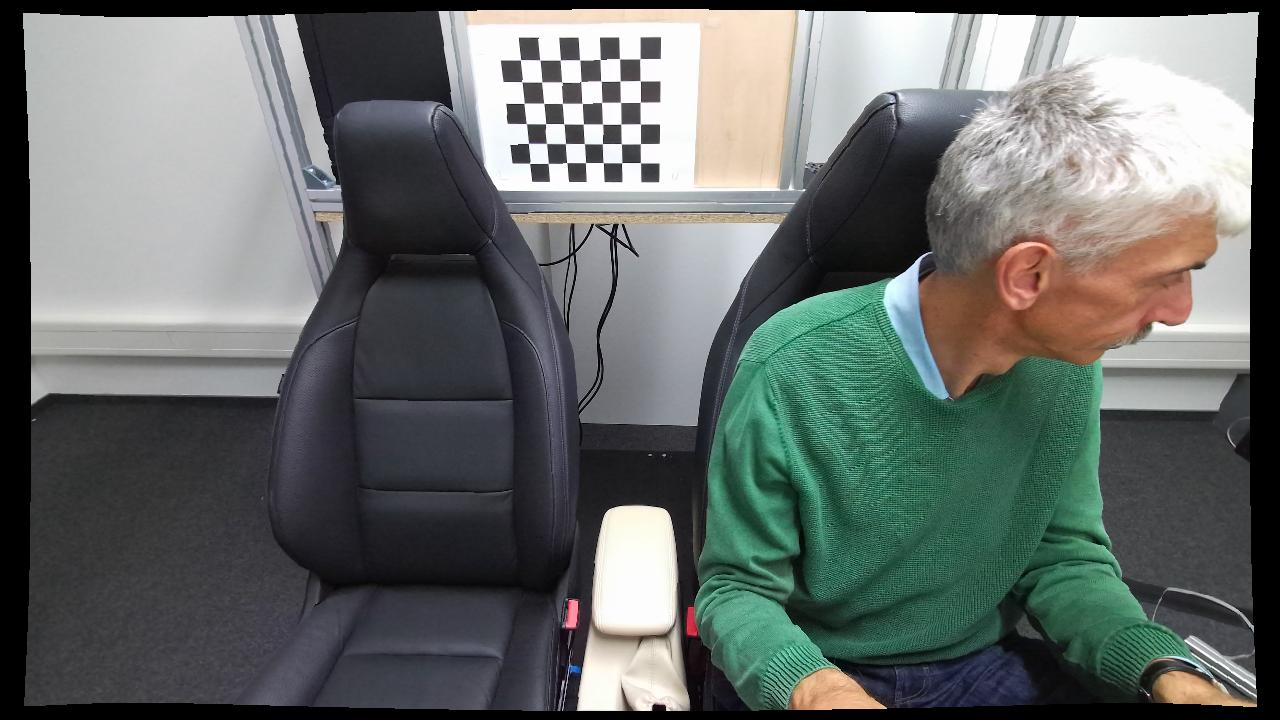Distracted: (696, 59, 1254, 716)
